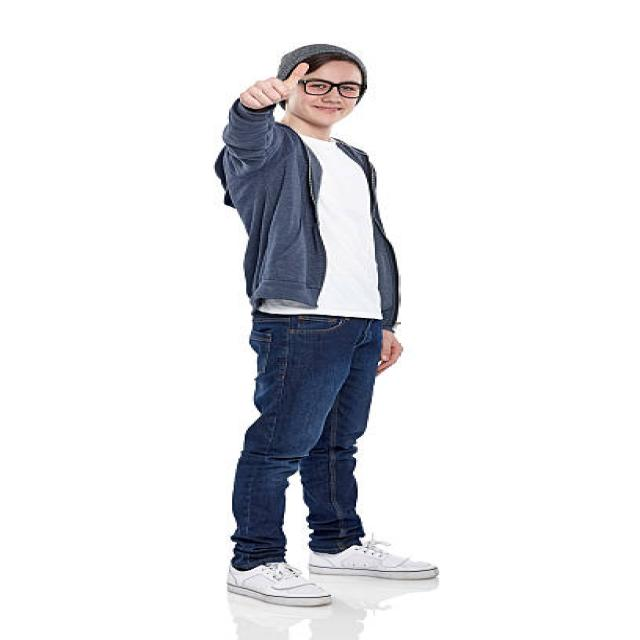Edited images: (191, 33, 463, 619)
